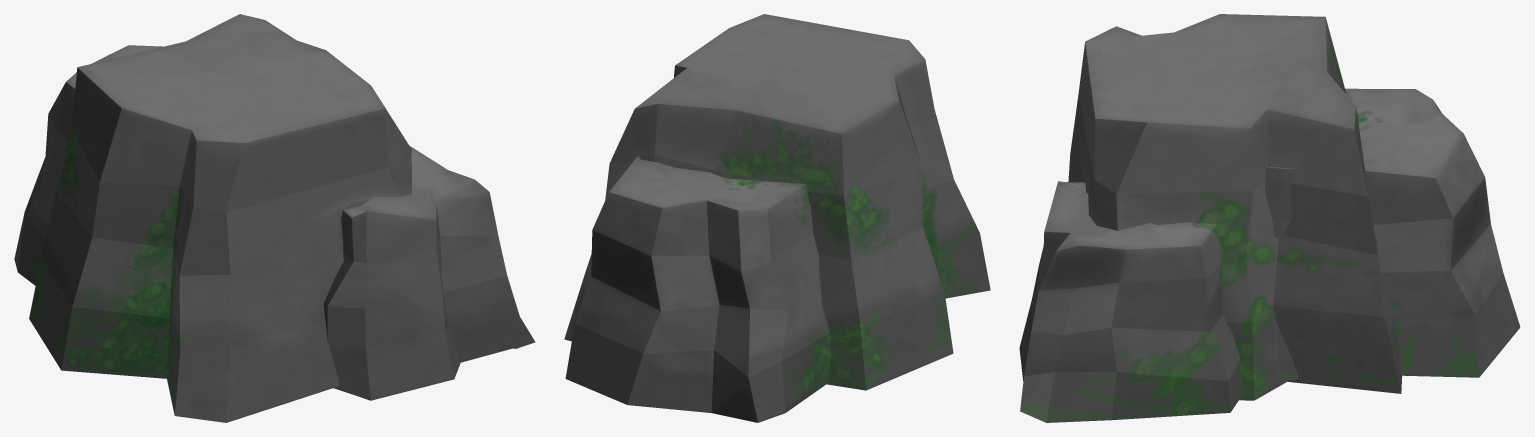
File: batu 1.fbx
3 renders of one model, left to right at view 1: azimuth 30°, elevation 25°; view 2: azimuth 150°, elevation 25°; view 3: azimuth 270°, elevation 25°, orthographic. The views are drawn at different scales.
Parts seen in each view (by area): view 1: Plane.010; view 2: Plane.010; view 3: Plane.010.
Boxes of the visible parts, <box> form: Plane.010: <box>14,14,535,422</box>; Plane.010: <box>564,14,990,422</box>; Plane.010: <box>1019,14,1520,422</box>.
Size of the model in its own units: 189 by 126 by 217.
Materials: 1 (1 with a texture image).
